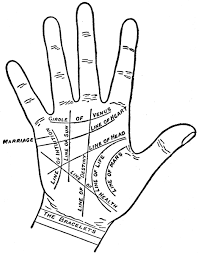palm: (41, 97, 145, 211)
